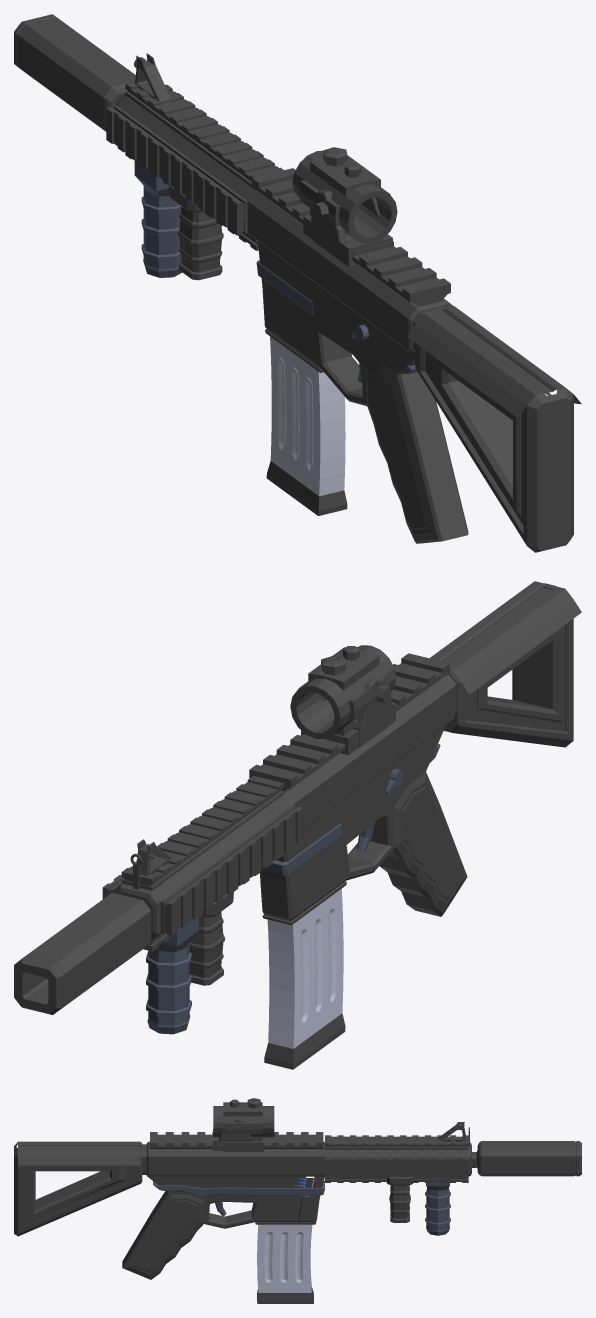
The model's file is Gun.glb.
The picture shows the model from 3 angles, top to bottom: view 1: azimuth 30°, elevation 25°; view 2: azimuth 150°, elevation 25°; view 3: azimuth 270°, elevation 25°; orthographic projection. The views are drawn at different scales.
Visible parts, largest first — view 1: Rifle, Magazine, Silence, AimCross, Hand Guard 2, Hand Guard, Aim, FrontSight; view 2: Rifle, Magazine, Silence, AimCross, Hand Guard 2, Hand Guard, Aim, FrontSight; view 3: Rifle, Magazine, Silence, AimCross, Hand Guard 2, Hand Guard, Aim, FrontSight.
Boxes of the visible parts, <box> form: Rifle: <box>106,57,581,552</box>; Magazine: <box>266,336,347,515</box>; Silence: <box>14,14,135,131</box>; AimCross: <box>292,147,397,243</box>; Hand Guard 2: <box>134,160,182,277</box>; Hand Guard: <box>169,185,223,280</box>; Aim: <box>311,189,392,266</box>; FrontSight: <box>135,53,172,104</box>; Rifle: <box>102,581,581,951</box>; Magazine: <box>264,889,345,1069</box>; Silence: <box>14,892,151,1014</box>; AimCross: <box>290,645,395,755</box>; Hand Guard 2: <box>146,916,198,1034</box>; Hand Guard: <box>189,891,233,985</box>; Aim: <box>321,677,395,747</box>; FrontSight: <box>136,839,171,875</box>; Rifle: <box>14,1127,476,1279</box>; Magazine: <box>257,1224,313,1303</box>; Silence: <box>476,1141,581,1176</box>; AimCross: <box>213,1098,274,1151</box>; Hand Guard 2: <box>425,1178,450,1235</box>; Hand Guard: <box>386,1176,413,1222</box>; Aim: <box>213,1118,252,1150</box>; FrontSight: <box>437,1122,466,1141</box>.
Size of the model in its own units: 0.3308 by 1.64 by 4.24.
